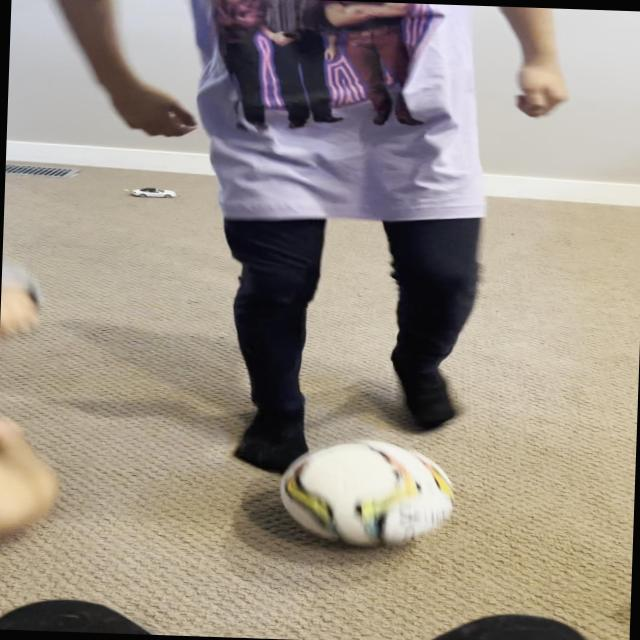Soccer Ball: (276, 436, 456, 550)
